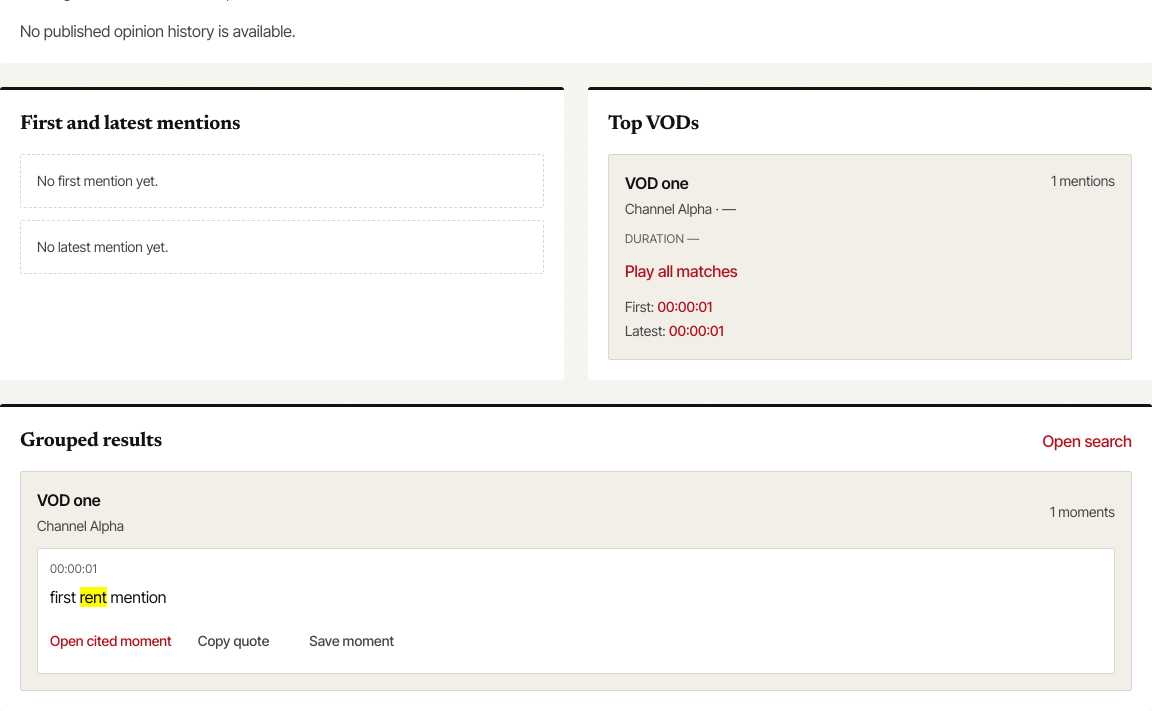
Test case: TopicPage › saves a topic moment remotely for an authenticated user
(page scrolled)
Click the button "Save moment" at point(352, 641), box [295,621,408,661]
(page scrolled)
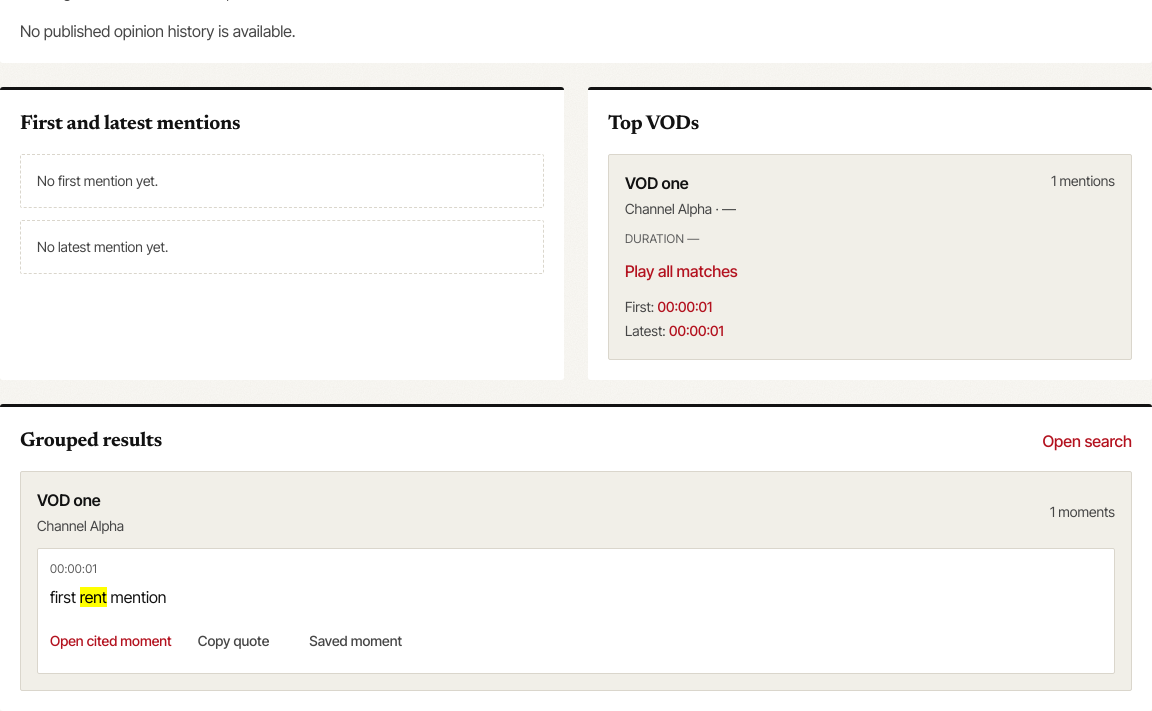
Check: the button "Saved moment" is disabled, box [295,621,416,661]
